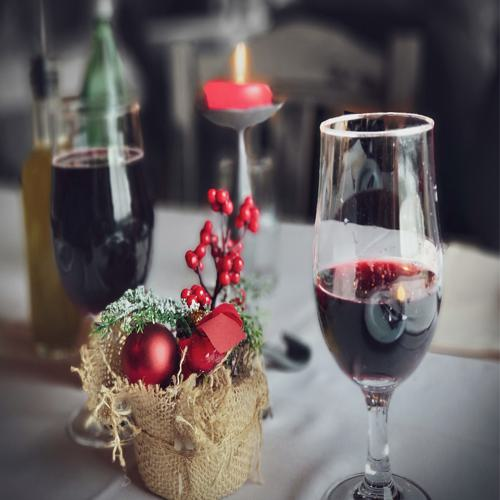copa: (315, 111, 453, 500), (53, 96, 151, 450)
